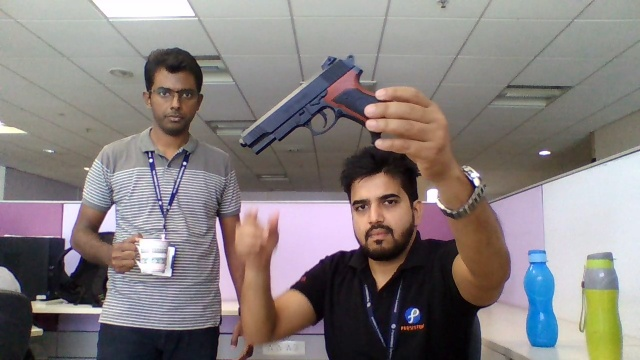gun: (241, 54, 364, 146)
